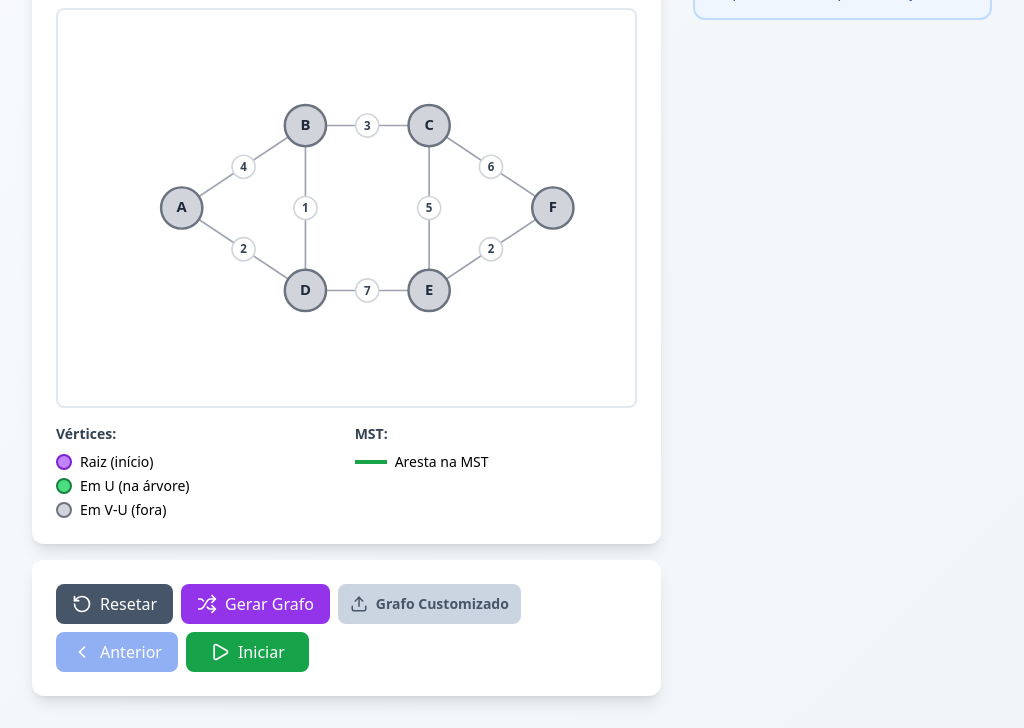
Scenario: PrimSimulator Integration › should start simulation and show first step
This screenshot has width=1024, height=728.
(page scrolled)
Click the button with test id "start-button" at [247, 652], box [186,632,309,672]
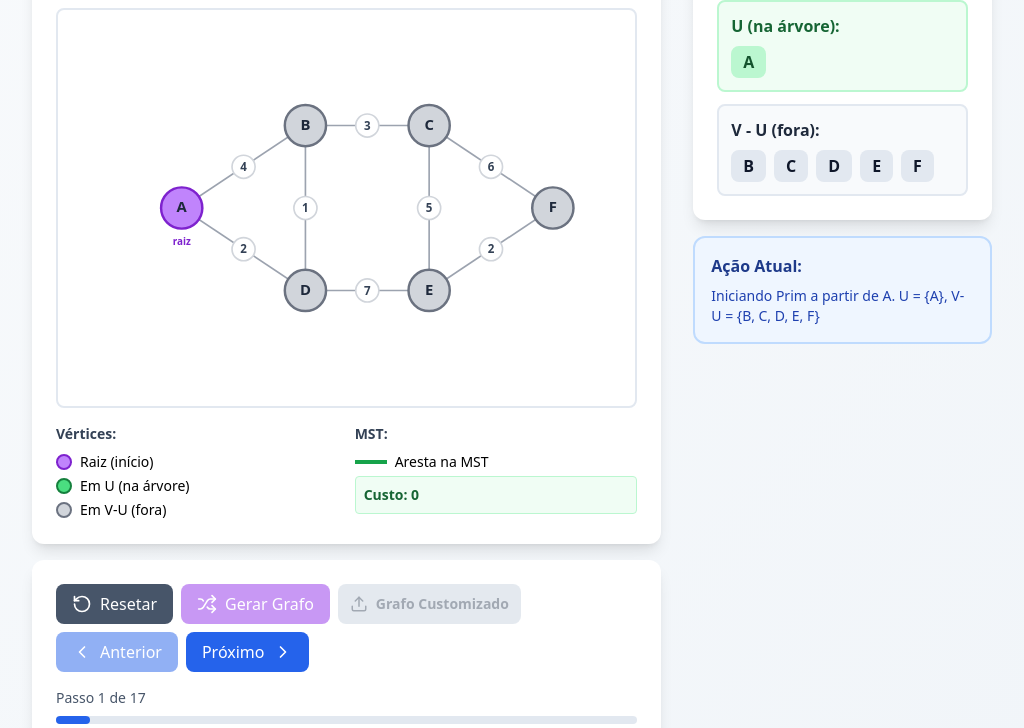
Expected: the element with test id "action-message-panel" is shown, [693,236,992,344]
Now the text "Iniciando Prim a partir de A. U = {A}, V-U = {B, C, D, E, F}" is shown, box [711,286,974,326]
